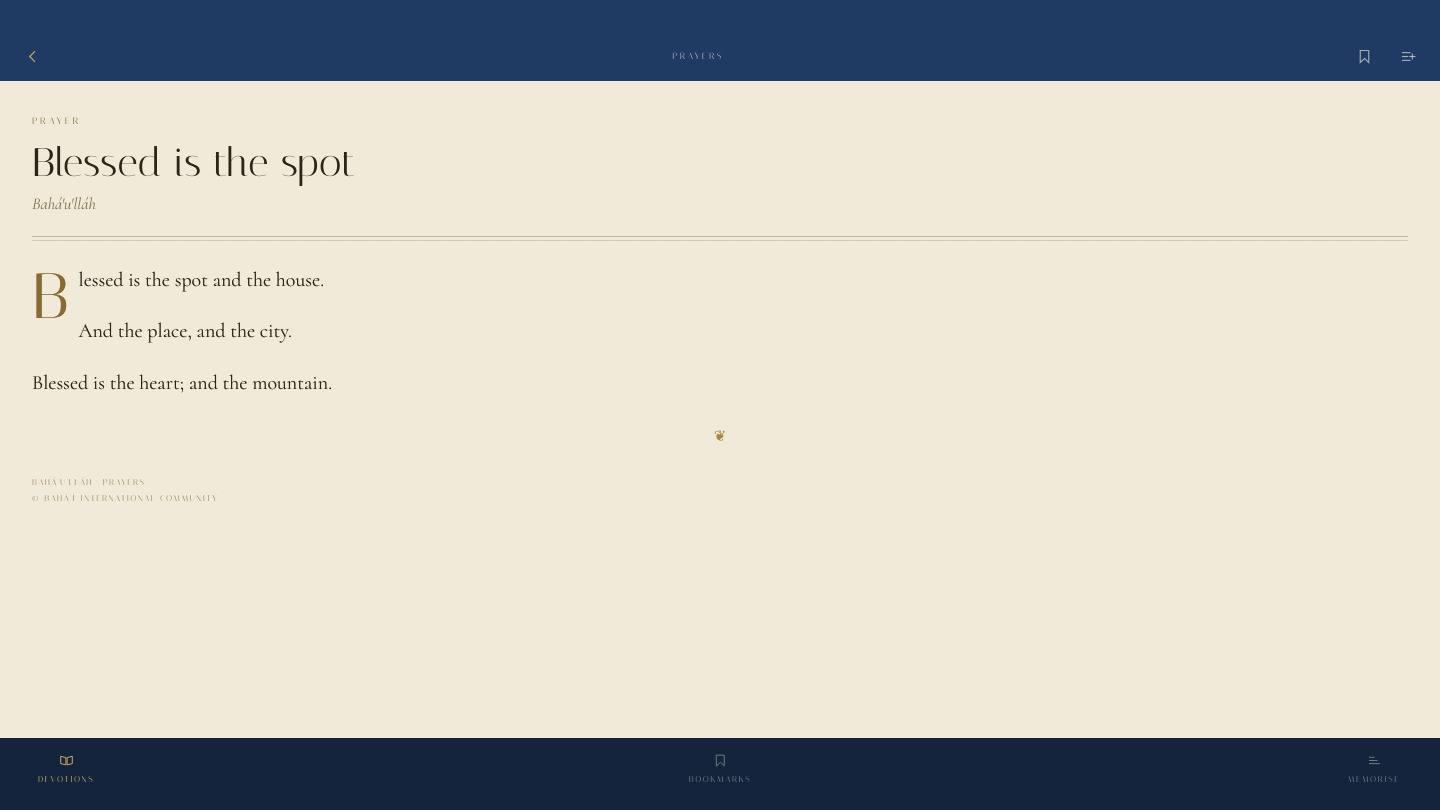
Scenario: the lines the app proposes (scope 8.4) › breaks the passage at its line ending and its paragraph, and not at its semicolon
The width and height of the screenshot is (1440, 810).
Click the button named "Add to my list" at x=1408, y=56, box [1386,34,1430,78]
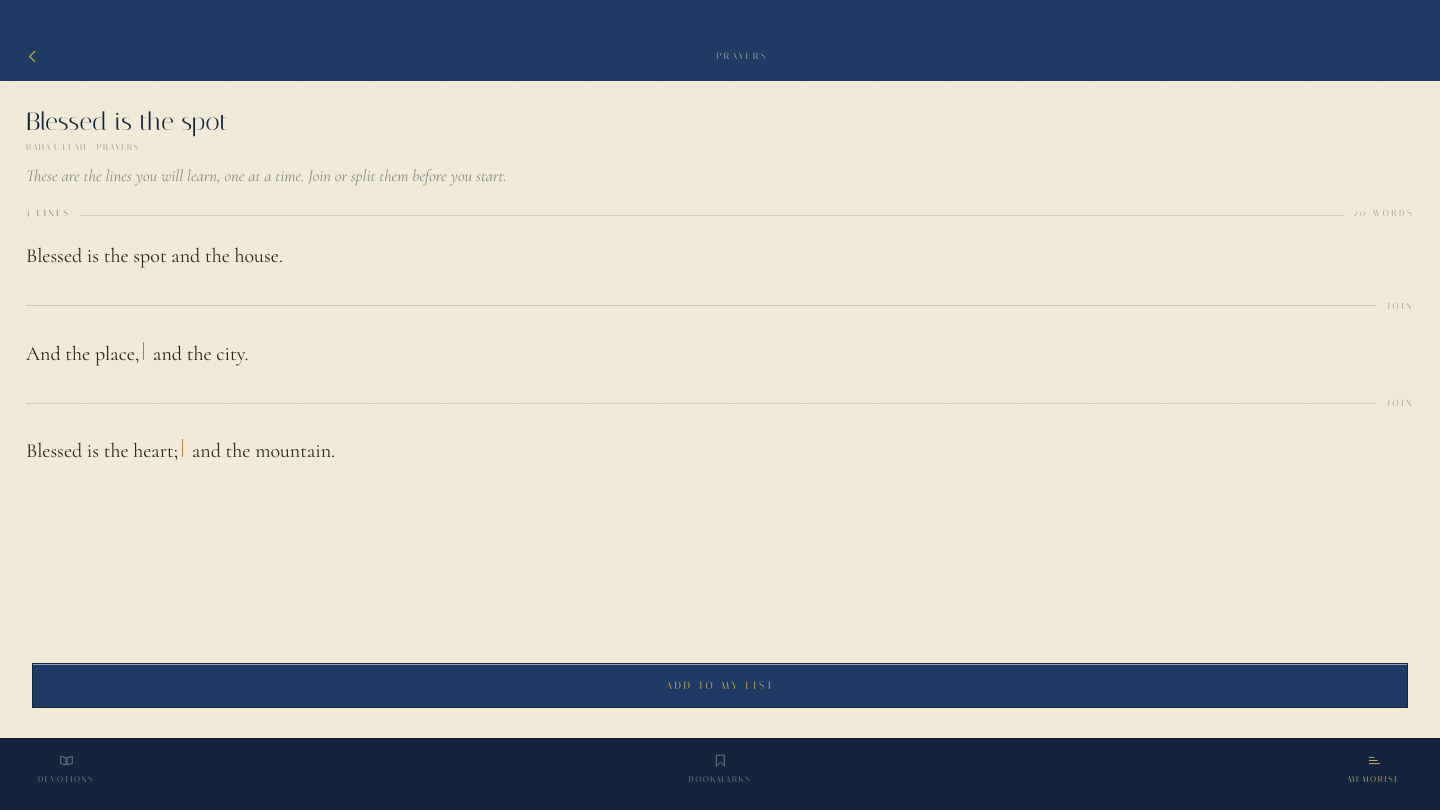
Now the button "ADD TO MY LIST" is shown, box [32,663,1408,708]
